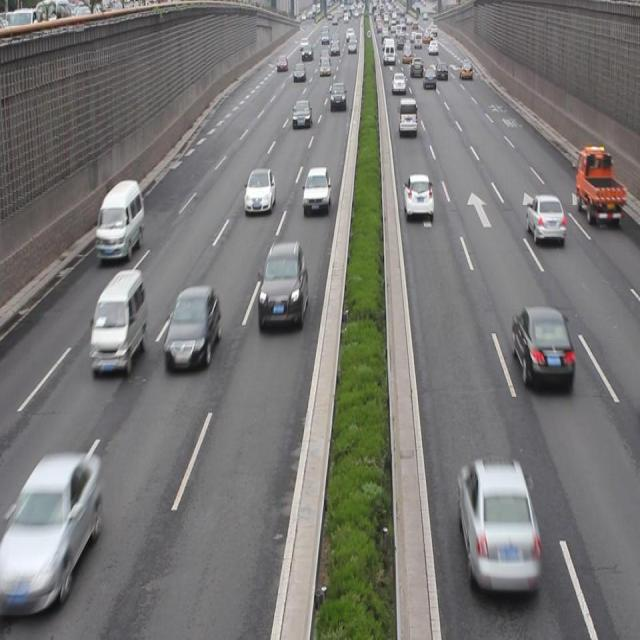bus: (574, 148, 622, 218)
car: (1, 455, 103, 613), (458, 458, 538, 592), (511, 303, 572, 389), (164, 287, 219, 367), (258, 242, 306, 330), (526, 192, 563, 248), (402, 175, 434, 220), (243, 170, 276, 208), (304, 170, 330, 212), (292, 97, 312, 128)
truck: (91, 271, 148, 378), (97, 180, 143, 259), (400, 98, 415, 139)
